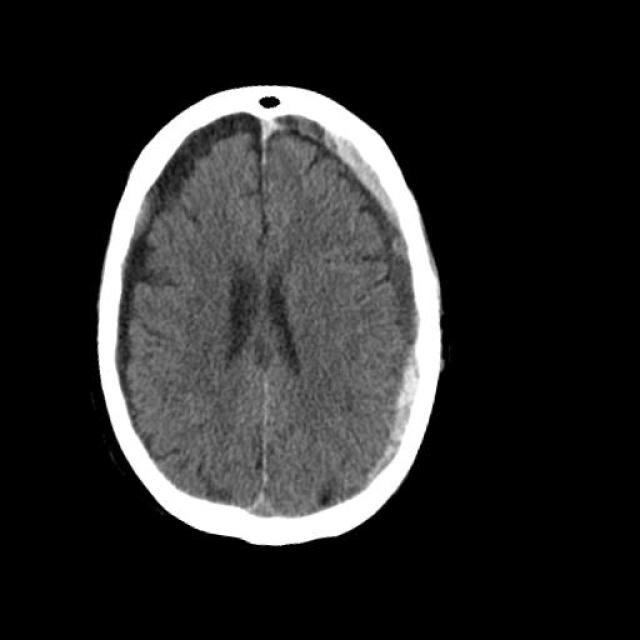Subdural: (346, 313, 434, 512)
